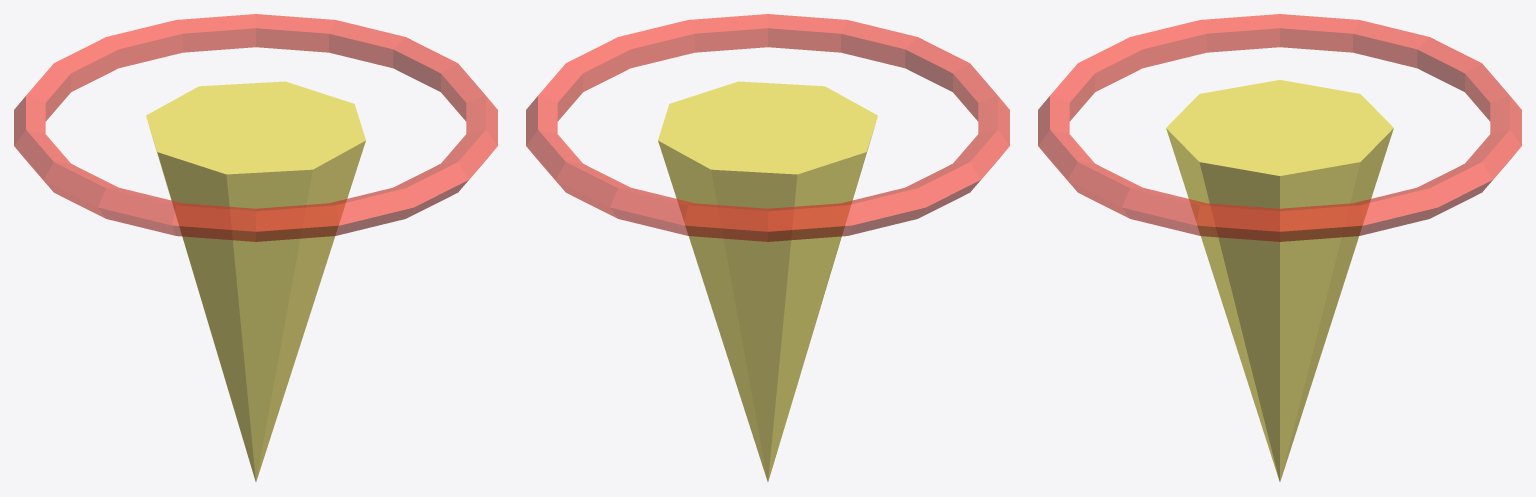
The model's file is telegraph_projectile_indicator.glb.
3 views of the same model, side by side, from view 1: azimuth 30°, elevation 25°; view 2: azimuth 150°, elevation 25°; view 3: azimuth 270°, elevation 25° (orthographic).
Visible parts, largest first — view 1: arrow, ring; view 2: arrow, ring; view 3: arrow, ring.
Part boxes in pixels (x1,y1,x2,y2): arrow: (146, 81, 365, 481); ring: (14, 14, 497, 241); arrow: (658, 81, 877, 481); ring: (526, 14, 1009, 241); arrow: (1166, 80, 1393, 481); ring: (1038, 14, 1521, 241).
Bounding box in the file's own units: 0.69 × 0.5738 × 0.6795.
